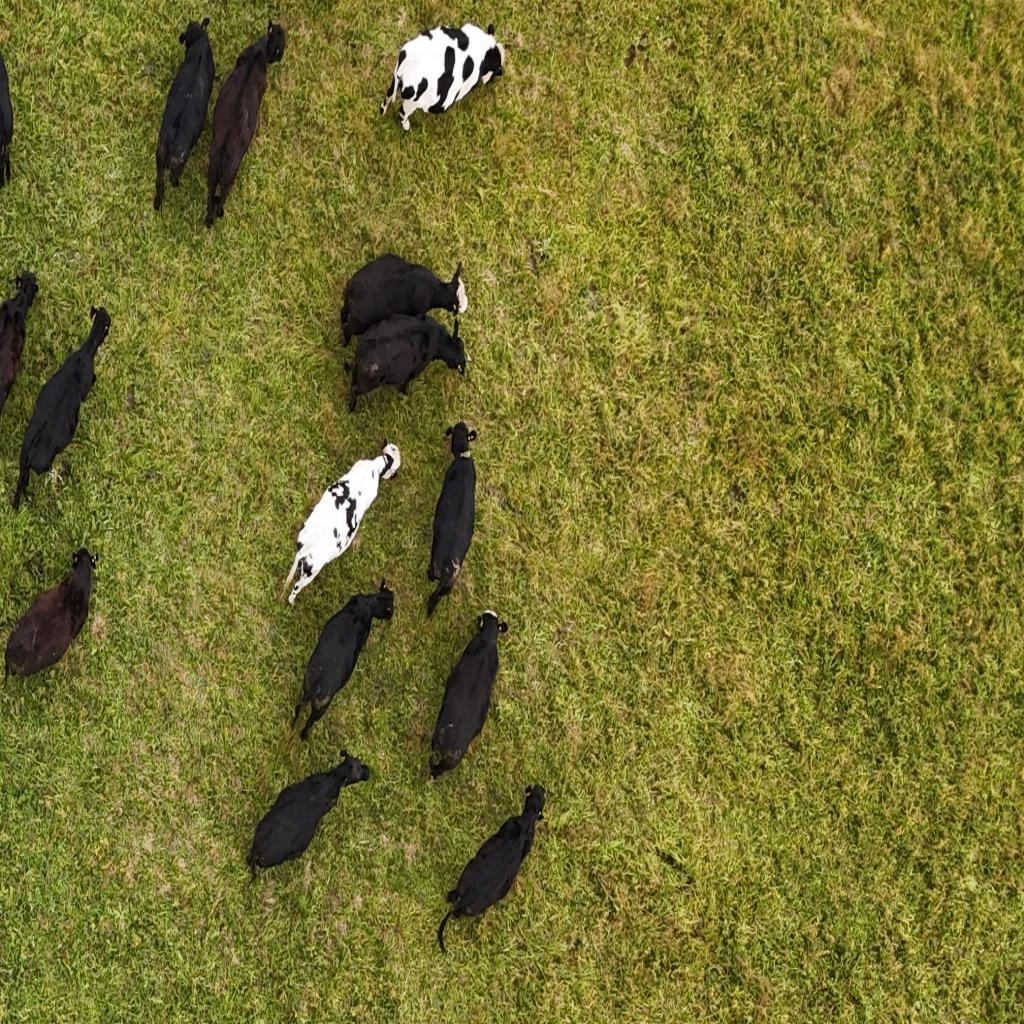cow: (14, 307, 112, 516), (280, 438, 400, 608), (436, 786, 544, 956), (287, 579, 395, 746), (204, 18, 288, 230), (376, 14, 508, 141), (246, 755, 370, 878), (428, 610, 508, 780), (4, 547, 100, 686), (152, 18, 216, 216), (348, 312, 468, 412), (339, 252, 468, 344), (424, 421, 479, 615)
